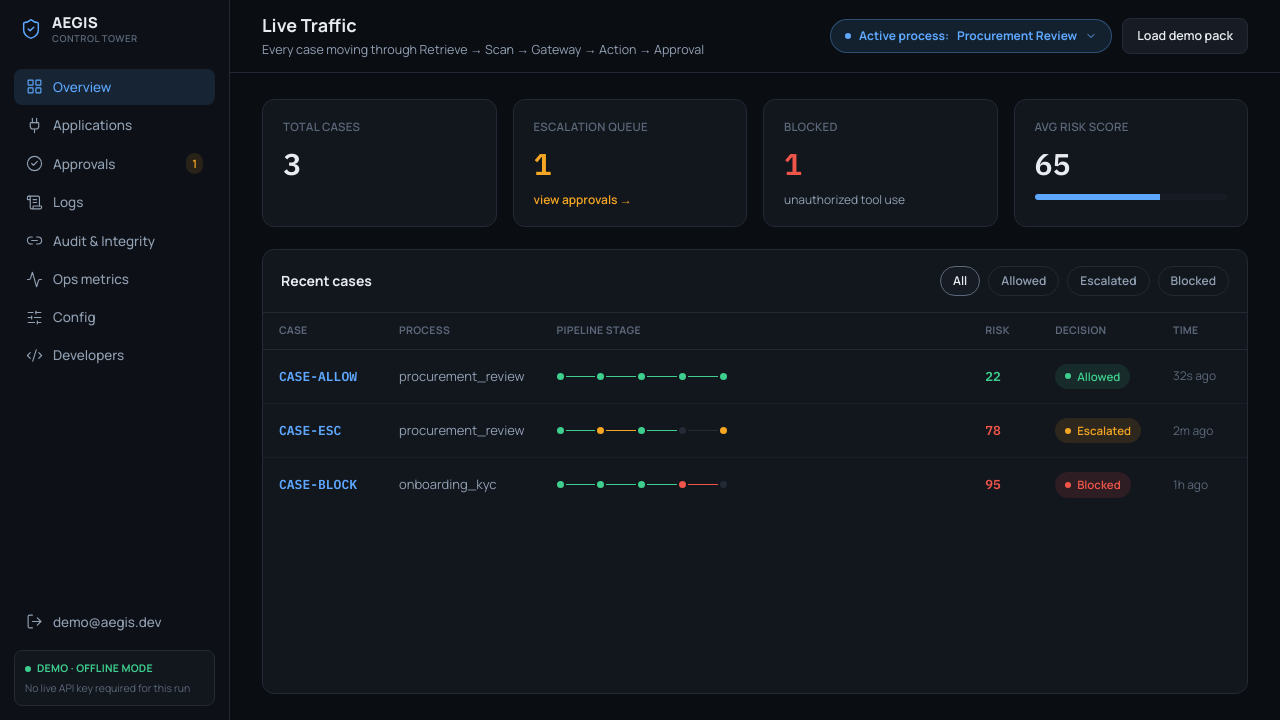
it: OverviewPage › shows demo pack error and supports retry
Expected: the link "CASE-ALLOW" is shown, [279,368,357,385]
Click the button "Load demo pack": (1185, 36) [1122,18,1248,54]
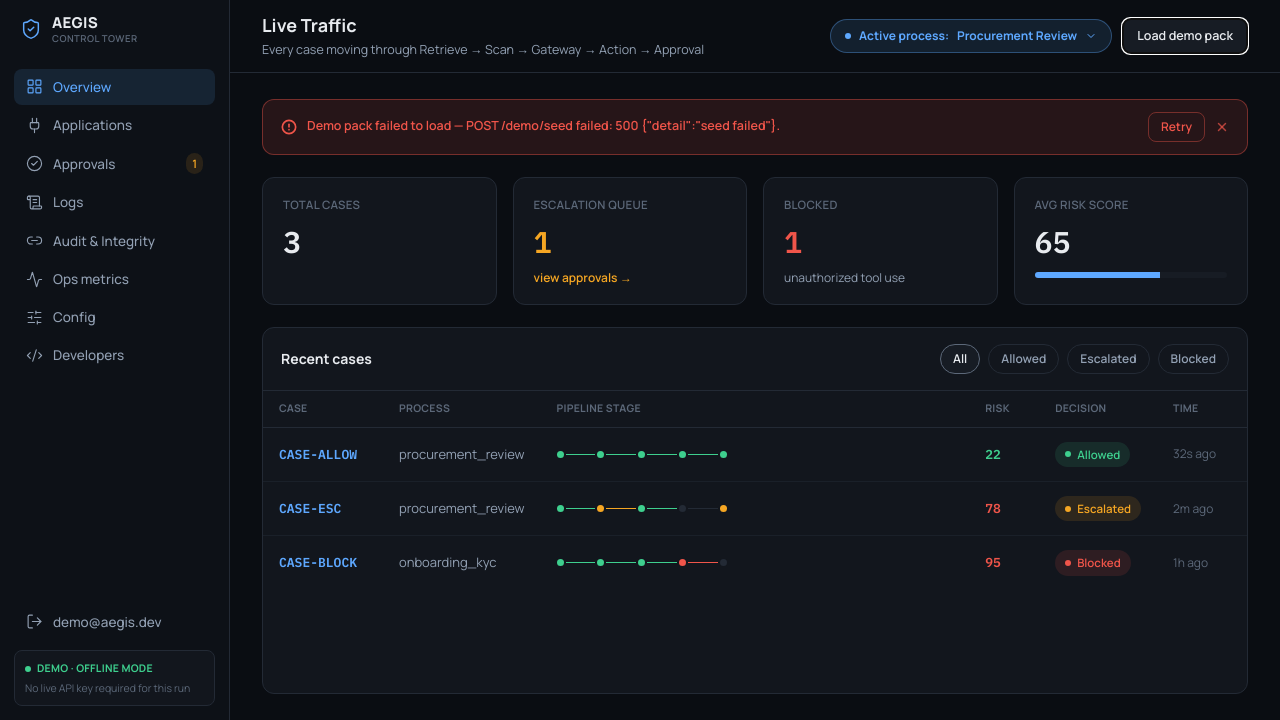
Expected: the text "Demo pack failed to load" is shown, [307,117,466,134]
Click the button "Retry": (1176, 127) [1148,112,1205,142]
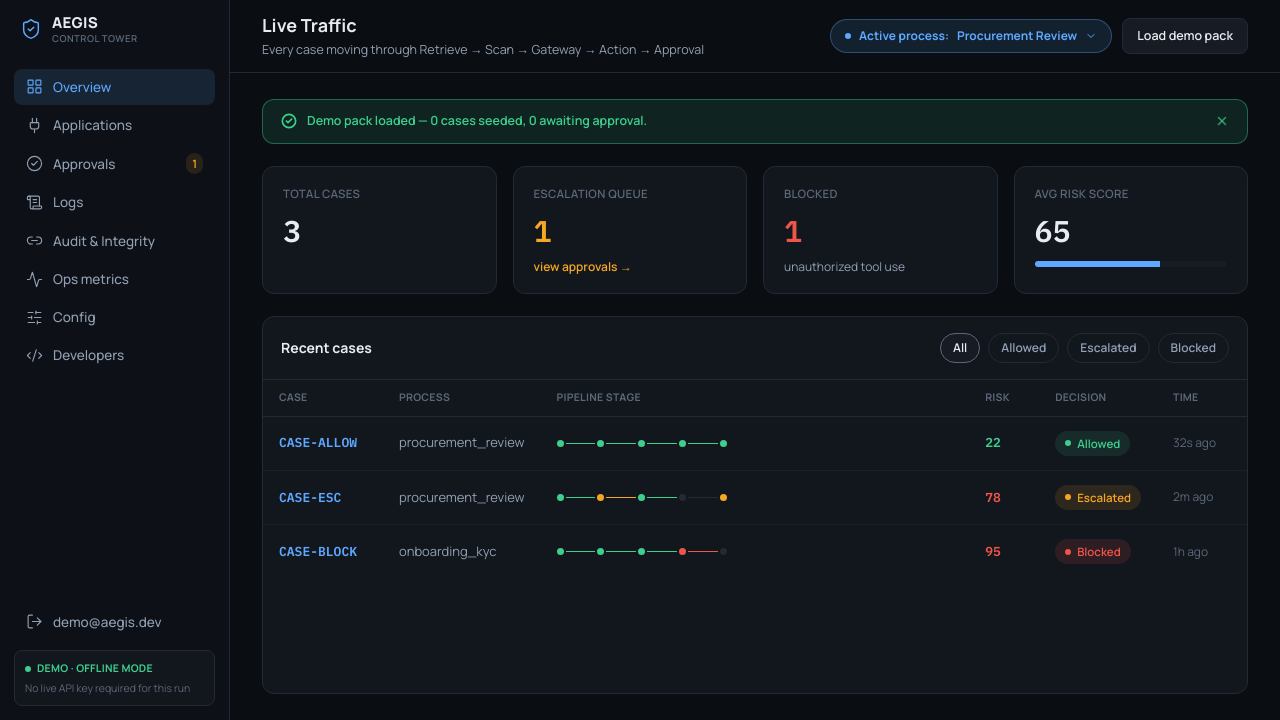
Expected: the text "Demo pack loaded — 0 cases seeded, 0 awaiting approval." is shown, [262,99,1248,144]
